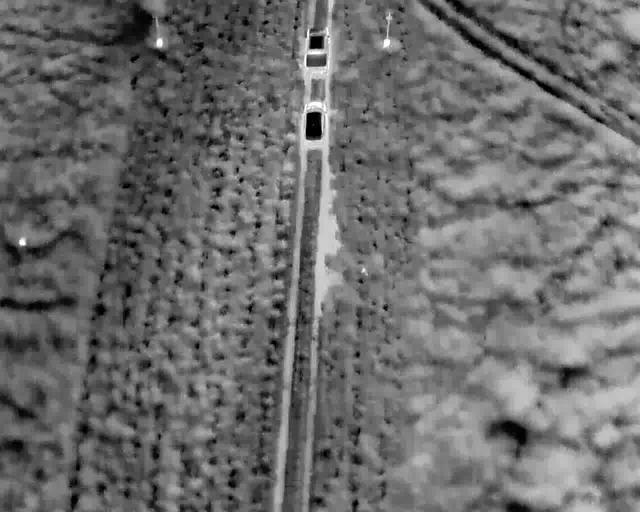car: (304, 25, 329, 75), (301, 100, 328, 146)
